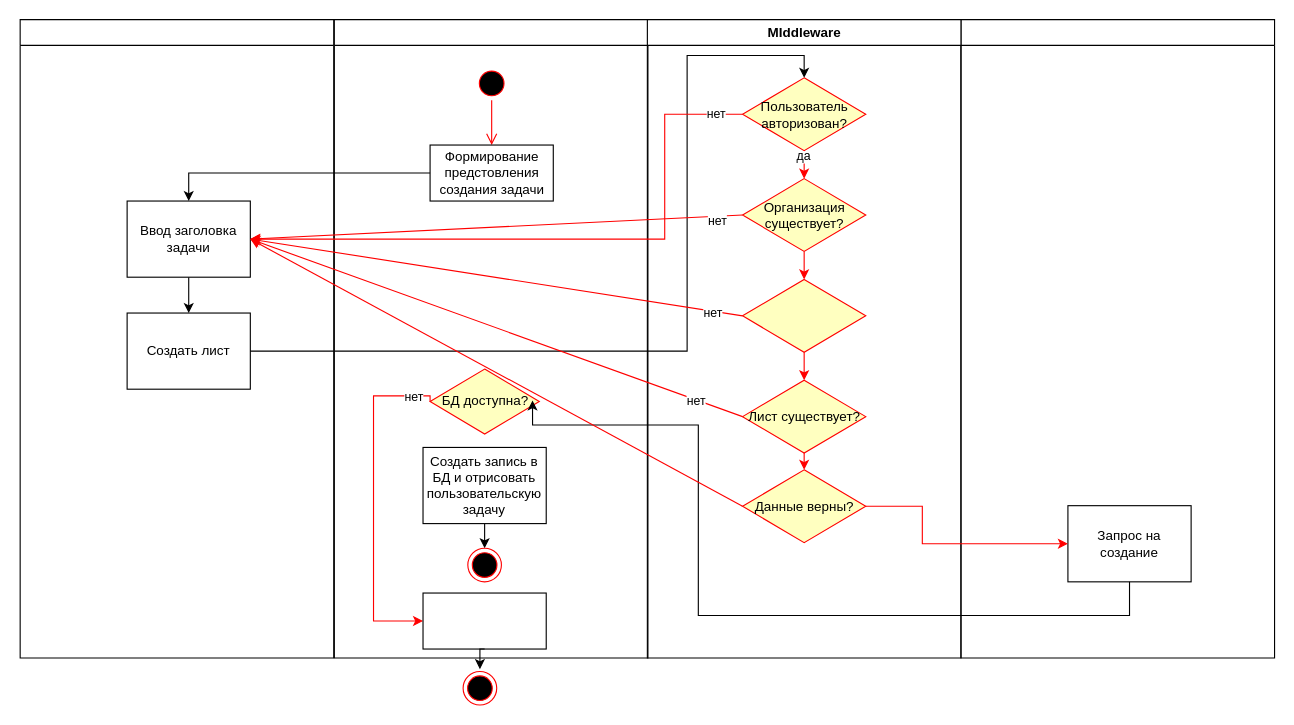
This 1294x725 diagram has some shape labels left out. The shapes that lost their labels are listed below. From the top down, each one's box as (x1, y1, x2, y2) in pixels, then its label:
(741, 278, 866, 352): Доска существует?
(19, 18, 334, 658): Клиент
(333, 18, 648, 658): Приложение
(960, 18, 1275, 658): Сервер БД
(422, 592, 546, 649): Отрисовать ошибку
